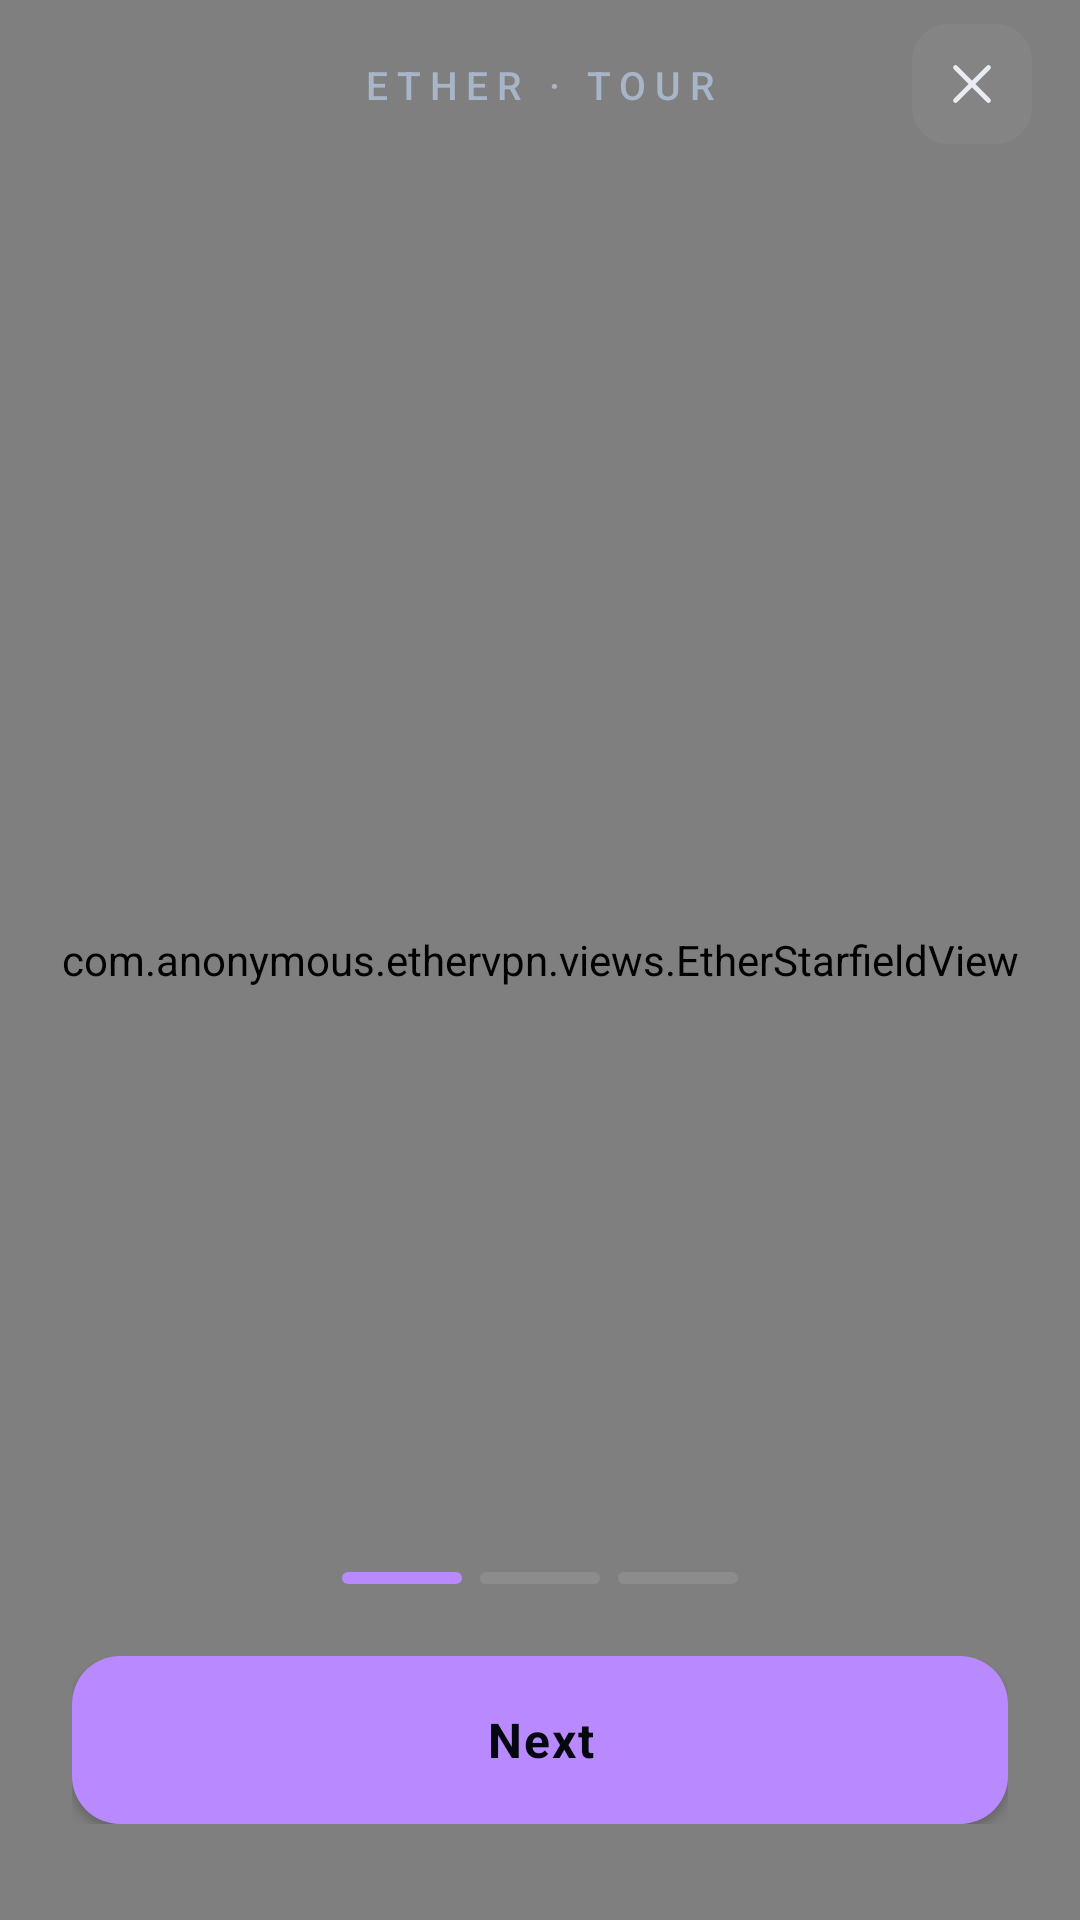

Screen size 1080*1920. Icon name, then its box in pixels as (x1, y1, x2, y2):
Close: (953, 65, 991, 103)
